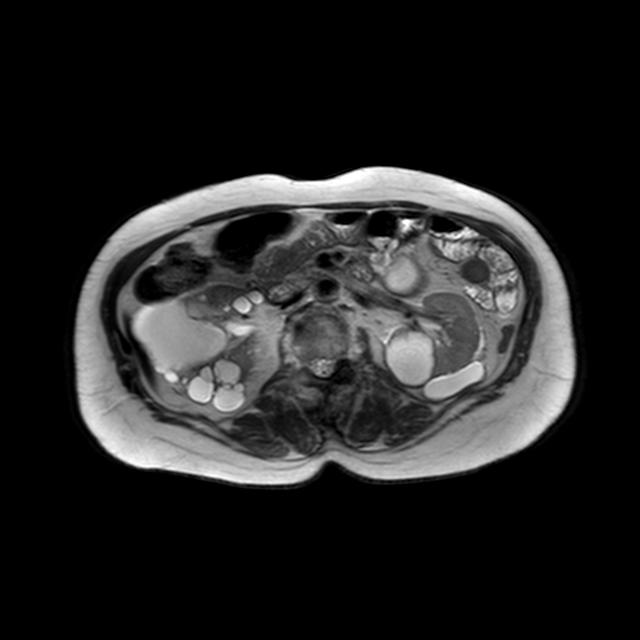sag: (130, 283, 268, 414)
sol: (381, 251, 489, 401)
